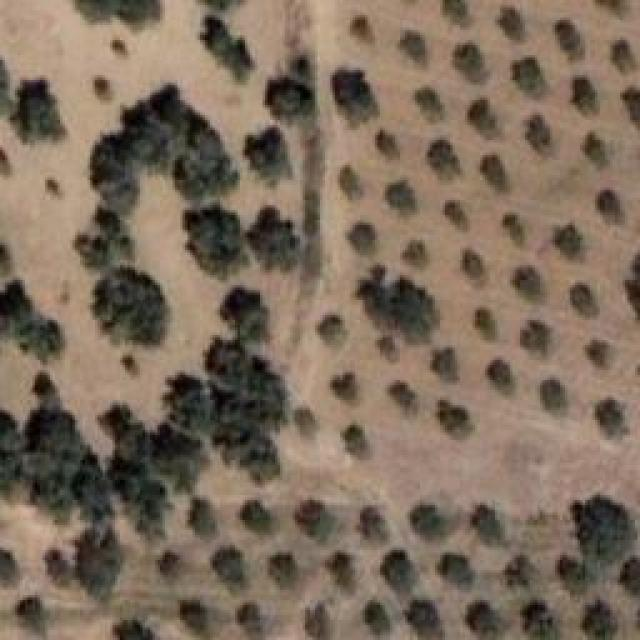Tree: (25, 375, 114, 527), (205, 338, 288, 481), (97, 408, 198, 521), (138, 88, 240, 199), (358, 268, 441, 344), (90, 270, 170, 348), (0, 280, 64, 361), (88, 127, 149, 205), (183, 208, 252, 271), (575, 495, 636, 561), (200, 7, 253, 78), (75, 525, 124, 600), (70, 205, 133, 260), (7, 80, 61, 144), (258, 197, 308, 265), (262, 65, 318, 116), (220, 288, 268, 344), (335, 70, 379, 126), (168, 374, 208, 434), (0, 410, 25, 505), (245, 130, 290, 179), (0, 538, 31, 600), (295, 502, 334, 542), (585, 598, 622, 637), (18, 590, 52, 632), (380, 550, 414, 592), (428, 140, 462, 180), (595, 398, 629, 438), (470, 504, 504, 544), (440, 400, 475, 438), (408, 600, 441, 640), (117, 0, 165, 27), (513, 60, 547, 98), (523, 602, 556, 640), (497, 210, 528, 250), (468, 98, 497, 139), (385, 180, 418, 216), (400, 235, 436, 268), (410, 504, 443, 538), (473, 303, 501, 343), (455, 45, 485, 82), (213, 548, 243, 585), (525, 115, 551, 157), (468, 603, 501, 636), (238, 498, 270, 532), (438, 552, 469, 587), (553, 223, 583, 259), (325, 553, 353, 591), (270, 553, 299, 589), (363, 600, 392, 636), (188, 497, 214, 537), (560, 20, 586, 60), (513, 267, 542, 302), (613, 555, 640, 592), (357, 507, 385, 542), (75, 0, 119, 22), (293, 403, 319, 440), (523, 320, 552, 353), (505, 555, 534, 588), (342, 420, 370, 454), (400, 30, 426, 66), (348, 223, 377, 255), (573, 78, 598, 115), (305, 603, 330, 640), (183, 600, 209, 635), (488, 360, 513, 396), (417, 90, 445, 122), (498, 7, 523, 42), (570, 282, 595, 317), (598, 190, 624, 223), (113, 620, 154, 640), (613, 40, 637, 73), (583, 134, 606, 168), (595, 0, 629, 23), (540, 380, 565, 411), (433, 350, 458, 381), (318, 315, 343, 346), (238, 603, 263, 634), (485, 157, 507, 192), (390, 383, 416, 411), (158, 550, 182, 580), (622, 88, 640, 128), (585, 340, 610, 368), (560, 558, 585, 585), (445, 203, 469, 231), (340, 165, 360, 198), (463, 250, 484, 281), (443, 0, 468, 26), (83, 80, 114, 100), (378, 130, 397, 160), (335, 375, 356, 401), (350, 17, 369, 42), (107, 37, 125, 62)
